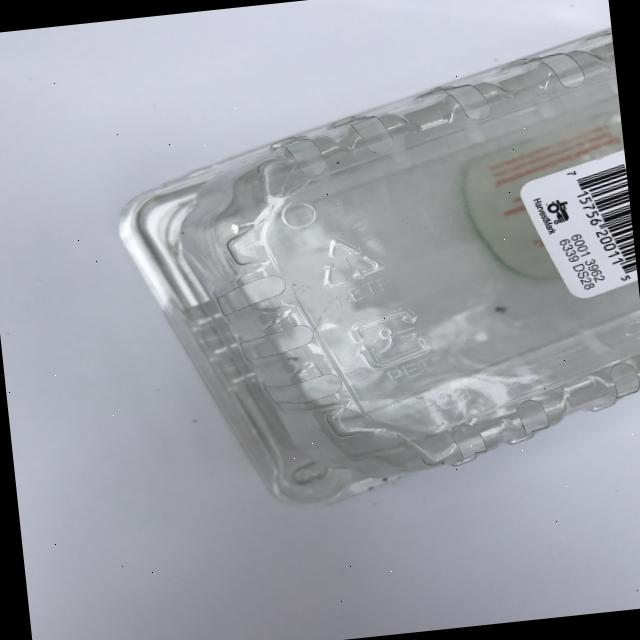plastic: (101, 26, 640, 524)
